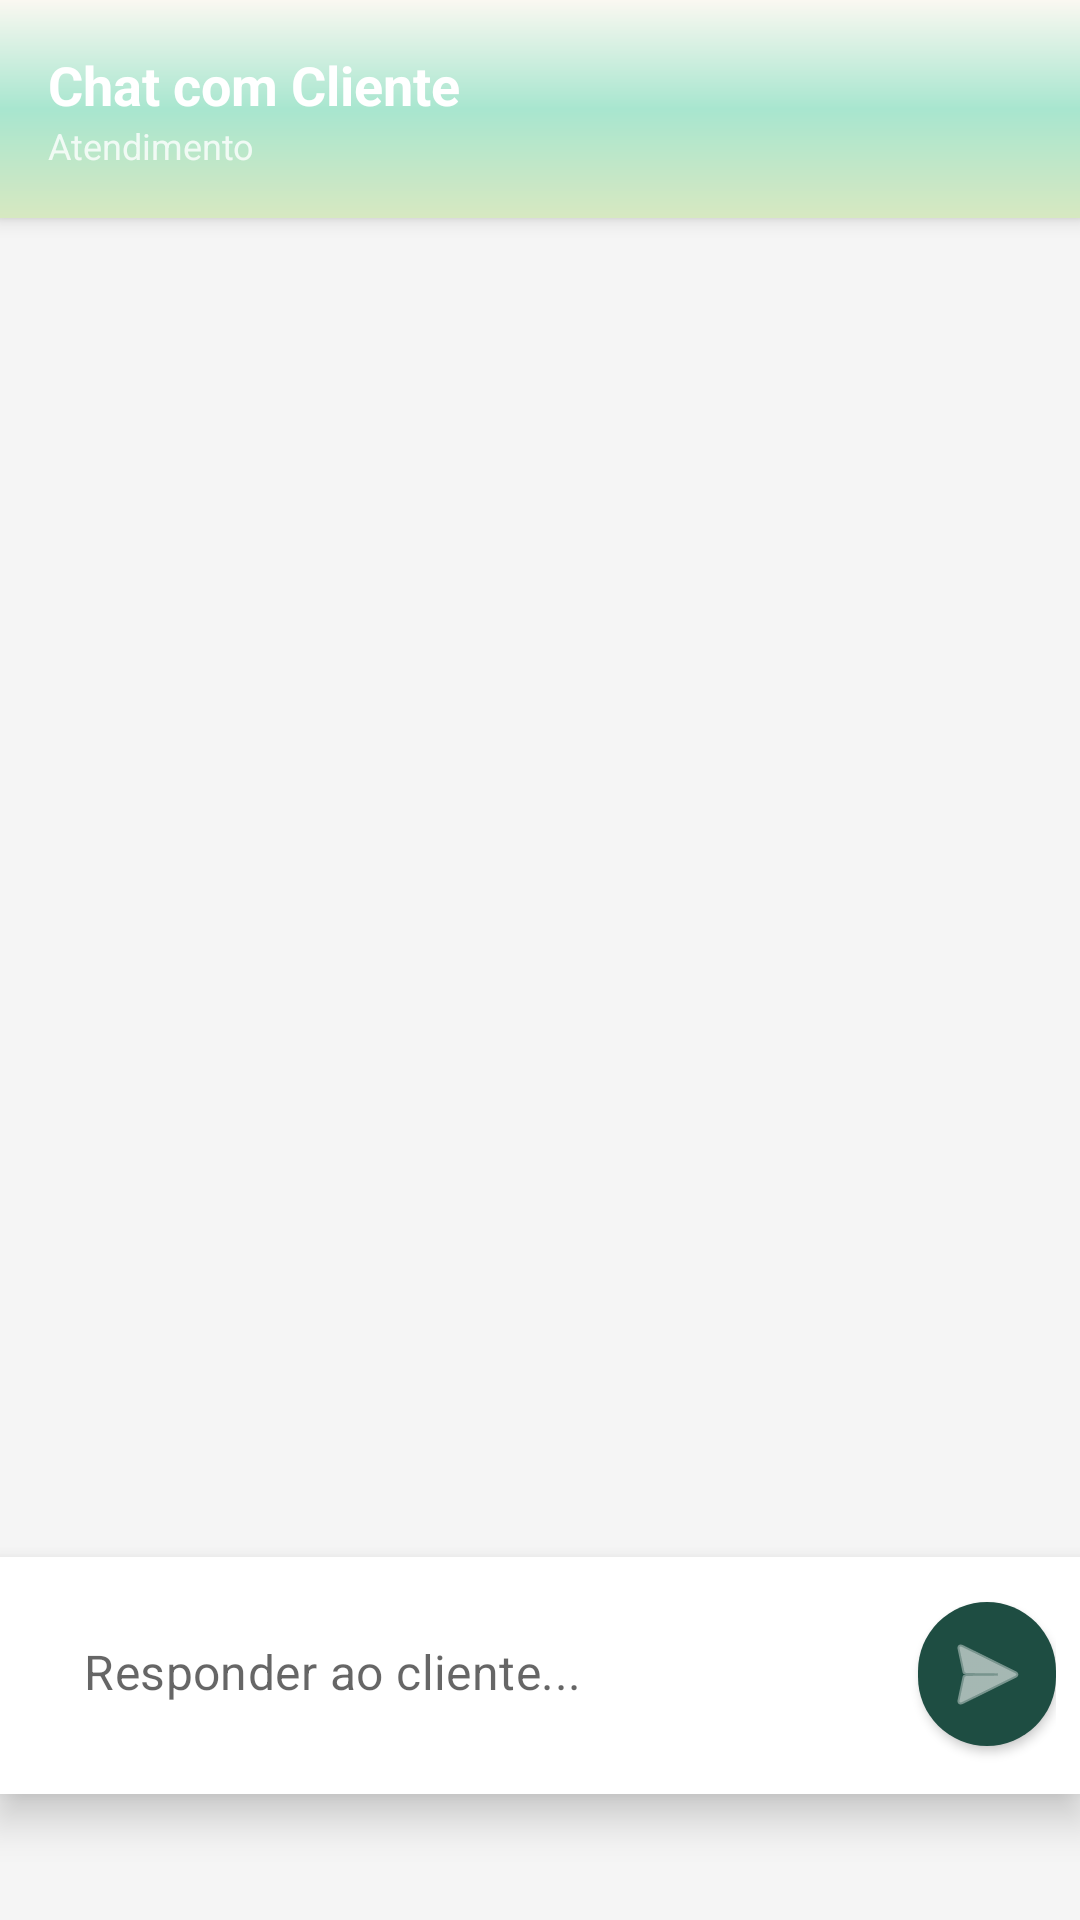

Icon click points for this 1080×1920 phone screenshot, format [x,y]:
send: [987,1674]
